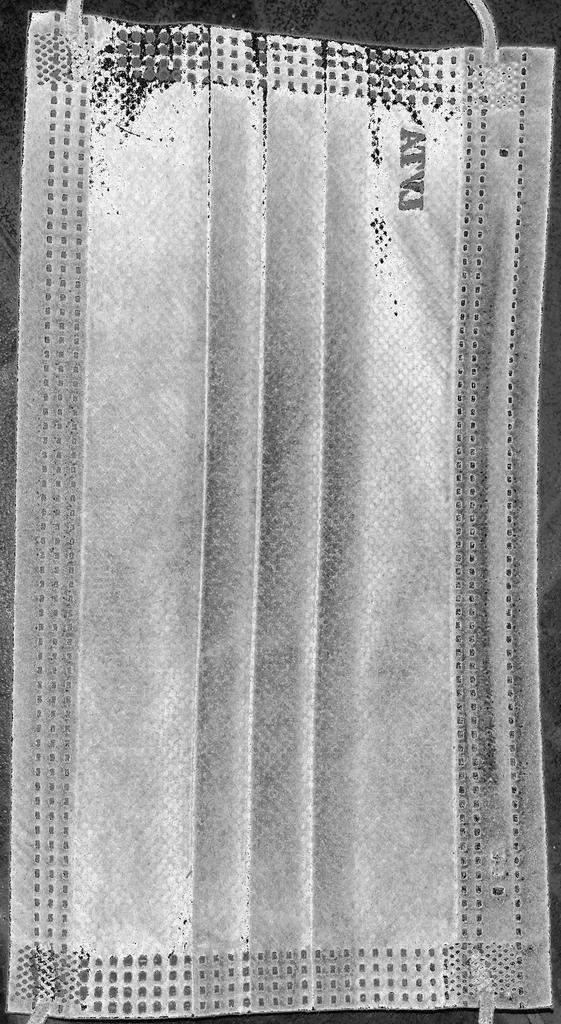High GSM: (7, 7, 554, 1016)
